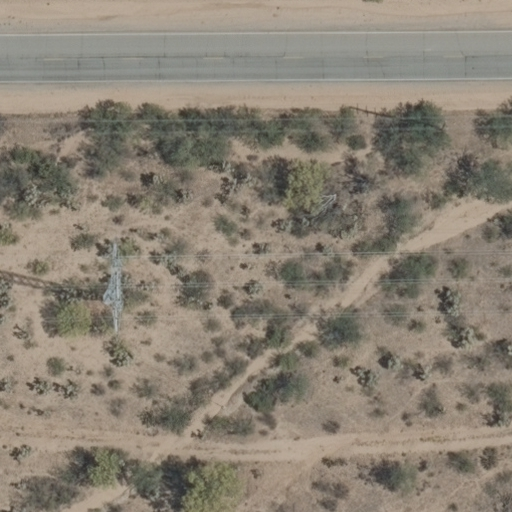DT: (382, 108, 433, 128)
TT: (95, 232, 145, 337)
